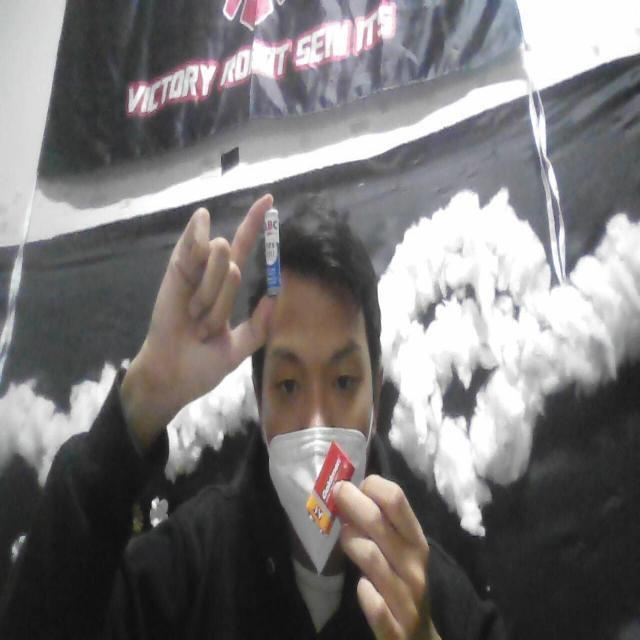9V: (303, 430, 358, 548)
AAA: (254, 193, 294, 309)
